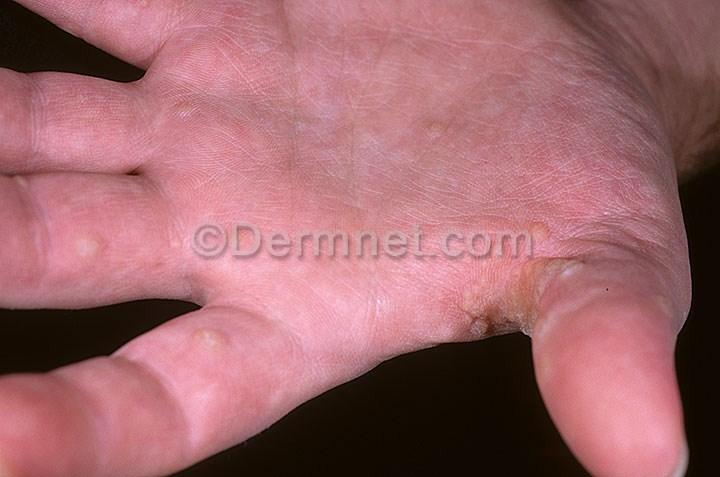Eczema: (351, 54, 554, 221), (176, 62, 346, 205), (272, 258, 460, 375), (536, 41, 659, 217), (6, 181, 159, 305), (0, 80, 174, 169), (352, 0, 569, 68), (173, 0, 349, 64), (176, 321, 263, 408), (541, 223, 624, 303), (165, 261, 265, 309), (451, 274, 521, 339)
